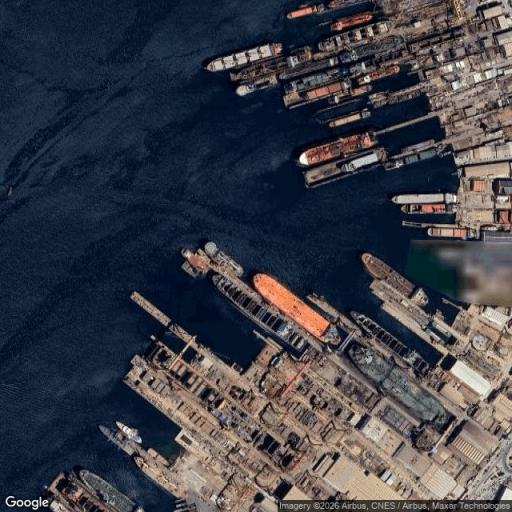ship: (348, 344, 451, 431), (212, 275, 308, 354), (253, 274, 332, 341), (351, 312, 430, 376), (48, 470, 143, 511), (362, 253, 427, 307), (230, 47, 312, 82), (369, 280, 429, 327), (79, 469, 143, 511), (298, 132, 376, 166), (304, 152, 379, 187), (284, 68, 350, 107), (362, 253, 414, 296), (206, 43, 283, 71), (319, 22, 387, 51), (284, 81, 350, 107), (340, 36, 403, 62), (284, 68, 347, 92), (205, 242, 245, 277), (279, 56, 339, 79), (385, 147, 447, 169), (99, 426, 135, 455), (236, 74, 278, 95), (328, 85, 371, 104), (357, 65, 399, 84), (330, 12, 372, 31), (328, 109, 371, 127), (182, 247, 209, 274), (392, 193, 456, 204), (428, 225, 477, 239), (287, 4, 325, 19), (400, 203, 454, 213), (116, 422, 141, 443), (402, 139, 434, 152), (431, 321, 453, 337), (426, 329, 446, 345), (327, 0, 364, 8), (369, 91, 390, 100)
